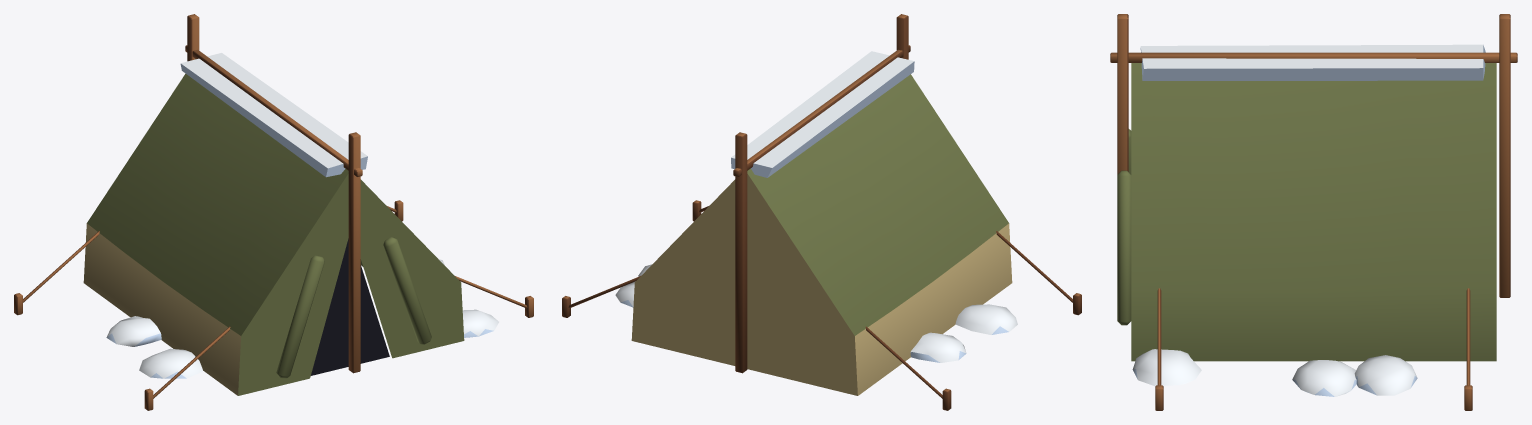
The model's file is Tent.fbx.
3 views of the same model, side by side, from view 1: azimuth 30°, elevation 25°; view 2: azimuth 150°, elevation 25°; view 3: azimuth 270°, elevation 25° (orthographic). The views are drawn at different scales.
Parts seen in each view (by area): view 1: Tent; view 2: Tent; view 3: Tent.
Boxes of the visible parts, x1,y1,x2,y2 form: Tent: (14,14,533,410); Tent: (562,14,1081,410); Tent: (1110,14,1517,410).
Size of the model in its own units: 3.76 by 2.23 by 2.9.
1 material, 1 textured.
